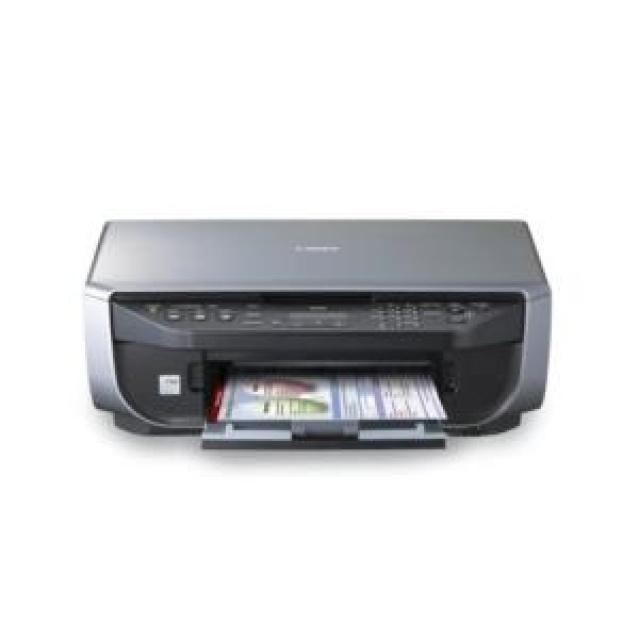Printer: (80, 217, 551, 449)
